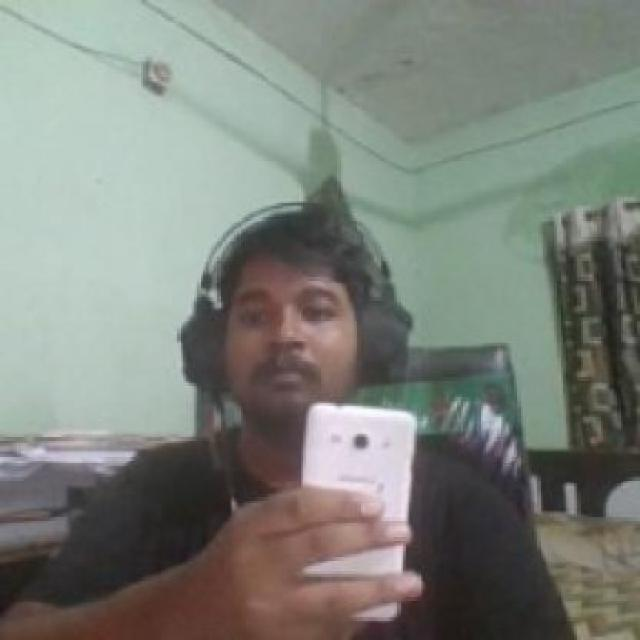Phone: (294, 403, 418, 623)
